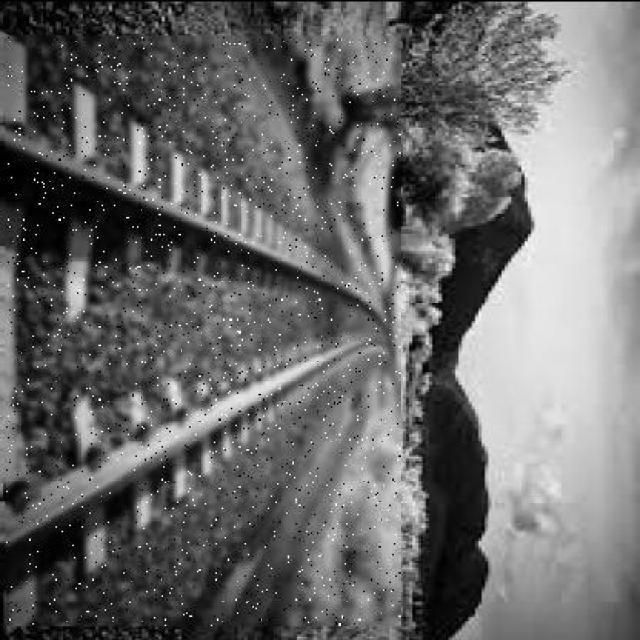rail: (7, 36, 400, 625)
